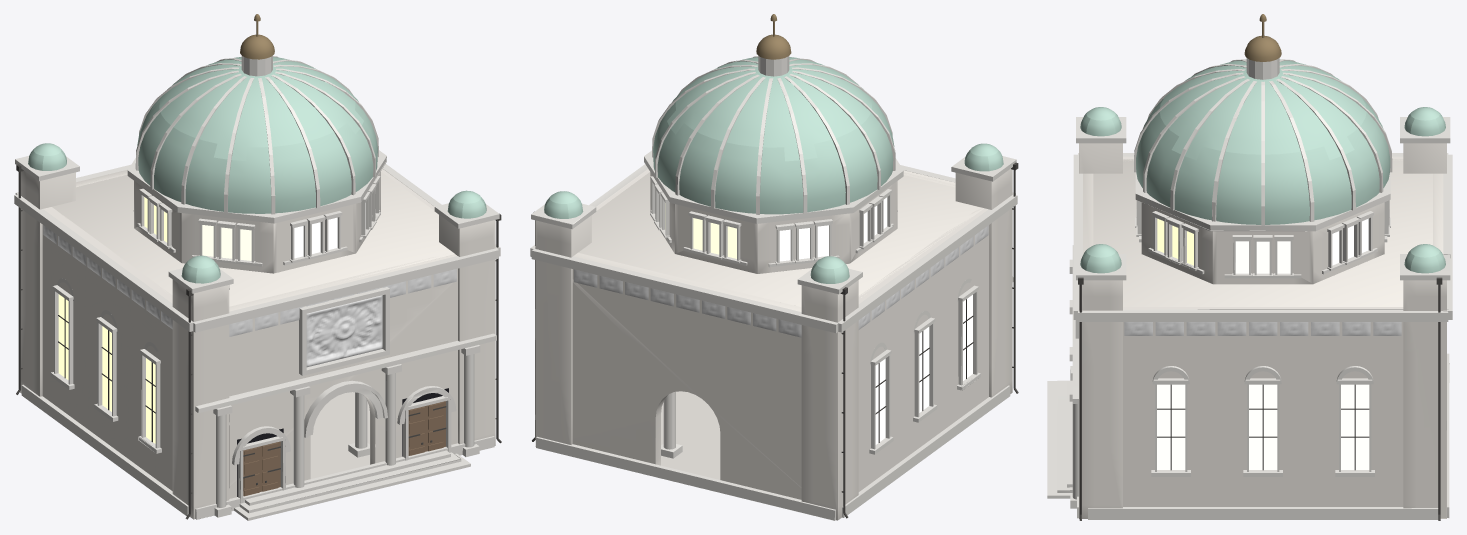
File: moon-temple.glb
3 renders of one model, left to right at view 1: azimuth 30°, elevation 25°; view 2: azimuth 150°, elevation 25°; view 3: azimuth 270°, elevation 25°, orthographic. The views are drawn at different scales.
Parts seen in each view (by area): view 1: temple_wall, temple_trim, temple_dome, temple_glass, temple_bronze, merged_temple_relief_temple-lunette, temple_floor, merged_temple_relief_temple-band, detail_temple_pipe, detail_temple_frame; view 2: temple_wall, temple_trim, temple_dome, temple_glass, merged_temple_relief_temple-band, temple_floor, detail_temple_pipe, temple_bronze; view 3: temple_wall, temple_trim, temple_dome, temple_glass, merged_temple_relief_temple-band, detail_temple_pipe, temple_bronze, detail_temple_frame.
Boxes of the visible parts, bbox=[...] form: temple_wall: bbox=[20, 169, 495, 519]; temple_trim: bbox=[14, 55, 500, 520]; temple_dome: bbox=[28, 57, 486, 283]; temple_glass: bbox=[58, 197, 365, 443]; temple_bronze: bbox=[240, 14, 445, 496]; merged_temple_relief_temple-lunette: bbox=[306, 295, 382, 367]; temple_floor: bbox=[310, 392, 369, 478]; merged_temple_relief_temple-band: bbox=[43, 225, 456, 336]; detail_temple_pipe: bbox=[16, 164, 501, 519]; detail_temple_frame: bbox=[58, 298, 155, 442]; temple_wall: bbox=[535, 168, 1012, 520]; temple_trim: bbox=[530, 56, 1017, 520]; temple_dome: bbox=[544, 57, 1003, 283]; temple_glass: bbox=[665, 197, 972, 444]; merged_temple_relief_temple-band: bbox=[574, 225, 988, 337]; temple_floor: bbox=[661, 391, 720, 479]; detail_temple_pipe: bbox=[532, 162, 1018, 518]; temple_bronze: bbox=[756, 14, 791, 59]; temple_wall: bbox=[1079, 143, 1446, 518]; temple_trim: bbox=[1047, 58, 1452, 519]; temple_dome: bbox=[1080, 59, 1445, 273]; temple_glass: bbox=[1157, 218, 1369, 469]; merged_temple_relief_temple-band: bbox=[1124, 322, 1401, 335]; detail_temple_pipe: bbox=[1078, 277, 1442, 520]; temple_bronze: bbox=[1244, 14, 1281, 61]; detail_temple_frame: bbox=[1157, 384, 1369, 470].
Size of the model in its own units: 17.57 by 21.54 by 18.5.
